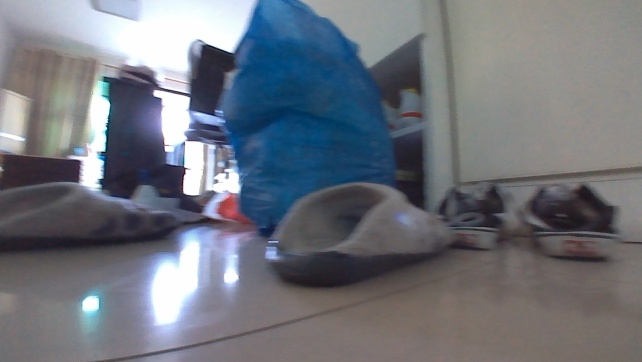shoe: (265, 176, 458, 295), (0, 178, 179, 259), (515, 177, 628, 263), (430, 180, 508, 250)
